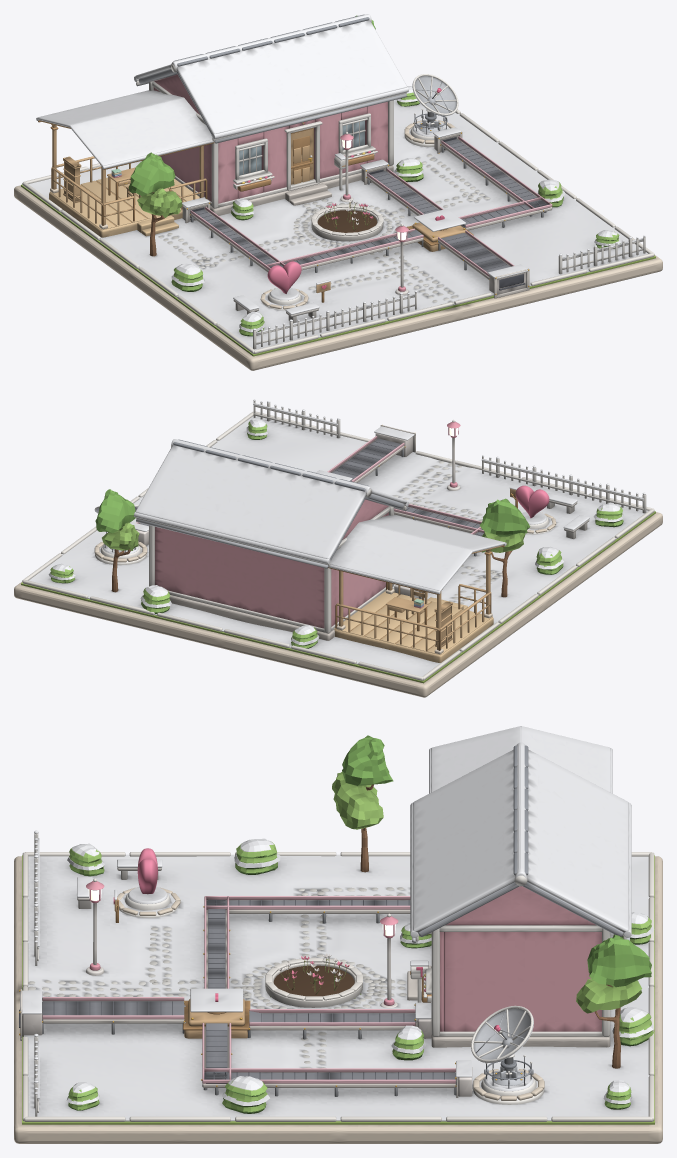
File: rainbow.glb
3 renders of one model, top to bottom at view 1: azimuth 30°, elevation 25°; view 2: azimuth 150°, elevation 25°; view 3: azimuth 270°, elevation 25°, orthographic. The views are drawn at different scales.
Visible parts, largest first — view 1: Snow_ground.rb, Snow_roof_House.rb, Ground_base.rb, Snow_roof_Study.rb, House_wall.rb, Belt_Sub_Study.rb, Belt_Sub_Radar.rb, Ground_paving.rb, Fence_south.rb, Snow_props.rb, Foliage_tree_W.rb, Ground_grass.rb (+19 smaller); view 2: Snow_ground.rb, Snow_roof_House.rb, House_wall.rb, Ground_base.rb, Snow_roof_Study.rb, Fence_south.rb, Foliage_tree_E.rb, Study_railing.rb, Foliage_tree_W.rb, Ground_grass.rb, Belt_Main_rainbow.rb, Snow_props.rb (+16 smaller); view 3: Snow_ground.rb, Snow_roof_House.rb, Ground_base.rb, House_wall.rb, Belt_Sub_Radar.rb, Snow_roof_Study.rb, Belt_Sub_Study.rb, Snow_props.rb, Foliage_tree_E.rb, Foliage_tree_W.rb, Belt_Main_rainbow.rb, Ground_paving.rb (+32 smaller).
Boxes of the visible parts, x1=… form: Snow_ground.rb: x1=28, y1=99, x2=648, y2=349; Snow_roof_House.rb: x1=134, y1=14, x2=408, y2=139; Ground_base.rb: x1=14, y1=185, x2=662, y2=370; Snow_roof_Study.rb: x1=36, y1=90, x2=214, y2=169; House_wall.rb: x1=153, y1=80, x2=387, y2=203; Belt_Sub_Study.rb: x1=189, y1=207, x2=424, y2=272; Belt_Sub_Radar.rb: x1=440, y1=136, x2=552, y2=230; Ground_paving.rb: x1=158, y1=154, x2=489, y2=304; Fence_south.rb: x1=253, y1=237, x2=645, y2=349; Snow_props.rb: x1=182, y1=121, x2=528, y2=314; Foliage_tree_W.rb: x1=128, y1=152, x2=182, y2=256; Ground_grass.rb: x1=21, y1=184, x2=655, y2=356; Snow_ground.rb: x1=29, y1=416, x2=648, y2=676; Snow_roof_House.rb: x1=134, y1=439, x2=408, y2=564; House_wall.rb: x1=155, y1=505, x2=388, y2=628; Ground_base.rb: x1=14, y1=496, x2=662, y2=697; Snow_roof_Study.rb: x1=328, y1=515, x2=506, y2=594; Fence_south.rb: x1=253, y1=401, x2=646, y2=513; Foliage_tree_E.rb: x1=95, y1=489, x2=139, y2=591; Study_railing.rb: x1=335, y1=582, x2=491, y2=651; Foliage_tree_W.rb: x1=479, y1=498, x2=530, y2=594; Ground_grass.rb: x1=21, y1=511, x2=655, y2=683; Belt_Main_rainbow.rb: x1=327, y1=436, x2=405, y2=482; Snow_props.rb: x1=99, y1=426, x2=589, y2=561; Snow_ground.rb: x1=24, y1=854, x2=652, y2=1121; Snow_roof_House.rb: x1=410, y1=742, x2=631, y2=937; Ground_base.rb: x1=14, y1=856, x2=662, y2=1143; House_wall.rb: x1=440, y1=932, x2=601, y2=1031; Belt_Sub_Radar.rb: x1=201, y1=1023, x2=456, y2=1096; Snow_roof_Study.rb: x1=429, y1=726, x2=612, y2=793; Belt_Sub_Study.rb: x1=203, y1=896, x2=410, y2=988; Snow_props.rb: x1=20, y1=859, x2=537, y2=1100; Foliage_tree_E.rb: x1=576, y1=935, x2=651, y2=1064; Foliage_tree_W.rb: x1=332, y1=735, x2=393, y2=871; Belt_Main_rainbow.rb: x1=42, y1=997, x2=185, y2=1034; Ground_paving.rb: x1=28, y1=887, x2=410, y2=1068.
Bounding box in the file's own units: 16 × 5.47 × 16.
